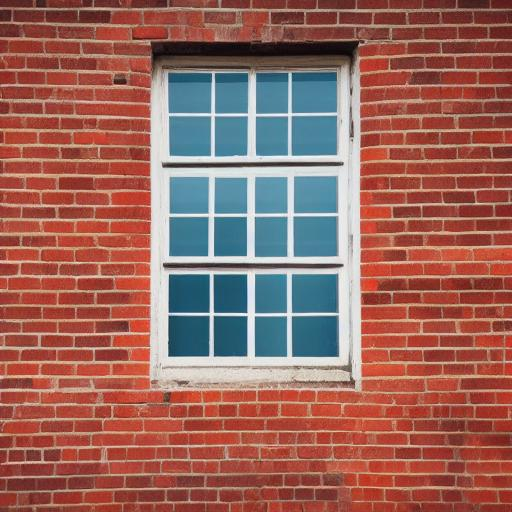Window: (147, 40, 365, 395)
